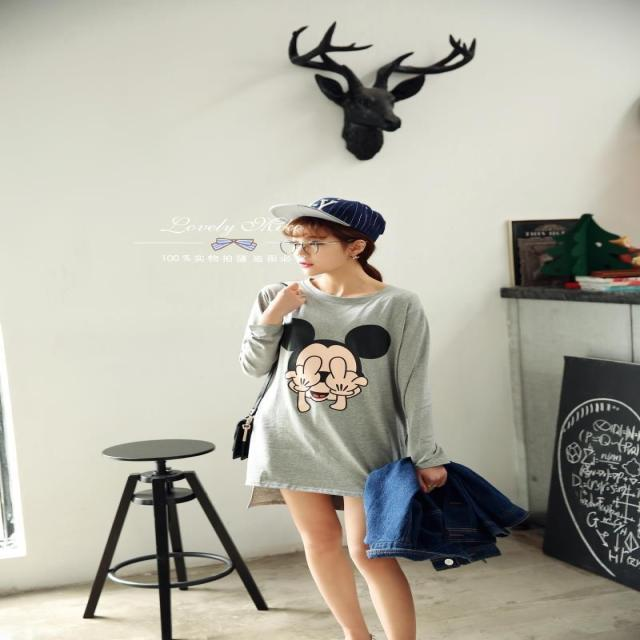long sleeve dress: (248, 280, 448, 498)
